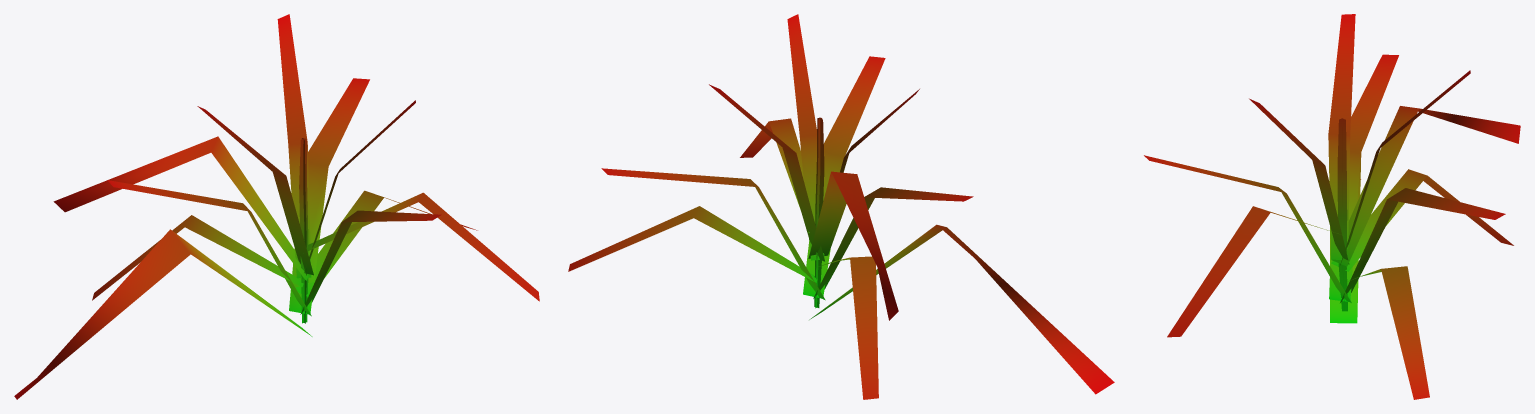
Rendered from Var9_LOD3.fbx.
The picture shows the model from 3 angles, left to right: view 1: azimuth 30°, elevation 25°; view 2: azimuth 150°, elevation 25°; view 3: azimuth 270°, elevation 25°; orthographic projection. The views are drawn at different scales.
Parts seen in each view (by area): view 1: _506d_Var9_LOD3; view 2: _506d_Var9_LOD3; view 3: _506d_Var9_LOD3.
Boxes of the visible parts, left/top/right/bottom form: _506d_Var9_LOD3: left=14, top=14, right=539, bottom=399; _506d_Var9_LOD3: left=568, top=14, right=1114, bottom=399; _506d_Var9_LOD3: left=1144, top=14, right=1520, bottom=399.
Bounding box in the file's own units: 41.51 × 20.95 × 26.37.
